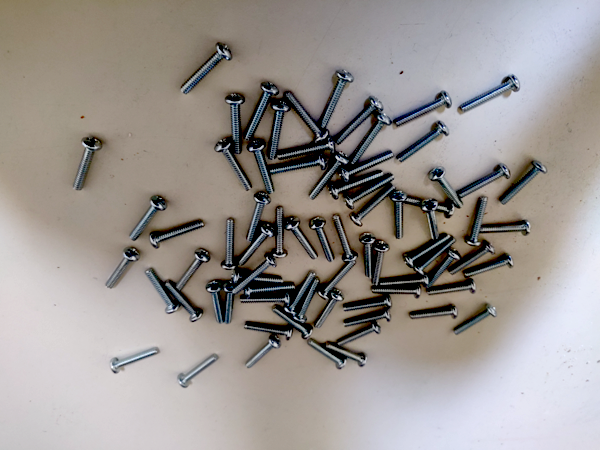longscrew: (178, 45, 234, 90), (398, 121, 452, 166), (333, 99, 384, 143), (463, 77, 520, 115), (286, 91, 326, 144), (459, 163, 509, 205), (395, 93, 450, 130), (349, 115, 391, 163), (310, 153, 351, 202), (242, 82, 277, 139), (316, 71, 351, 128), (505, 160, 543, 210), (216, 141, 251, 192), (354, 185, 397, 225), (399, 235, 450, 268), (260, 104, 290, 160), (231, 257, 275, 295), (339, 152, 395, 181), (429, 168, 467, 210), (345, 175, 396, 206), (316, 260, 357, 298), (247, 142, 278, 192), (270, 154, 327, 181), (70, 138, 100, 189), (145, 269, 179, 314), (165, 283, 203, 323), (455, 305, 499, 339), (130, 197, 165, 239), (153, 221, 205, 249), (415, 239, 457, 273), (238, 226, 274, 265), (453, 244, 494, 278), (174, 251, 210, 289), (284, 218, 317, 259), (397, 195, 458, 217), (305, 220, 338, 260), (426, 252, 459, 292), (283, 274, 315, 315), (328, 172, 385, 195), (280, 139, 334, 163), (272, 306, 312, 338), (104, 250, 138, 287), (465, 198, 491, 246), (110, 350, 157, 375), (179, 357, 218, 387), (244, 196, 271, 239), (292, 280, 320, 321), (245, 337, 281, 368), (334, 215, 357, 261), (227, 95, 244, 157), (314, 293, 342, 330), (468, 258, 515, 280), (307, 343, 346, 369), (337, 325, 381, 348), (343, 295, 393, 314), (346, 311, 394, 330), (371, 240, 389, 288), (245, 283, 298, 299), (411, 305, 458, 323), (427, 282, 478, 298), (329, 344, 365, 366), (245, 323, 294, 339), (223, 219, 238, 270), (423, 193, 438, 243), (380, 275, 431, 289), (271, 207, 284, 259), (242, 295, 293, 307), (223, 284, 238, 324), (362, 230, 374, 279), (394, 188, 405, 239), (209, 283, 223, 323), (232, 277, 285, 286), (372, 287, 423, 296)
